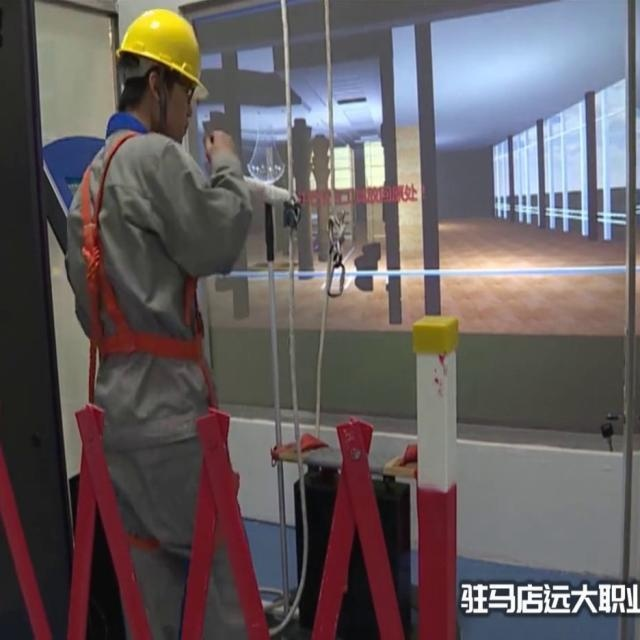Arnes_seguridad: (69, 121, 213, 385)
